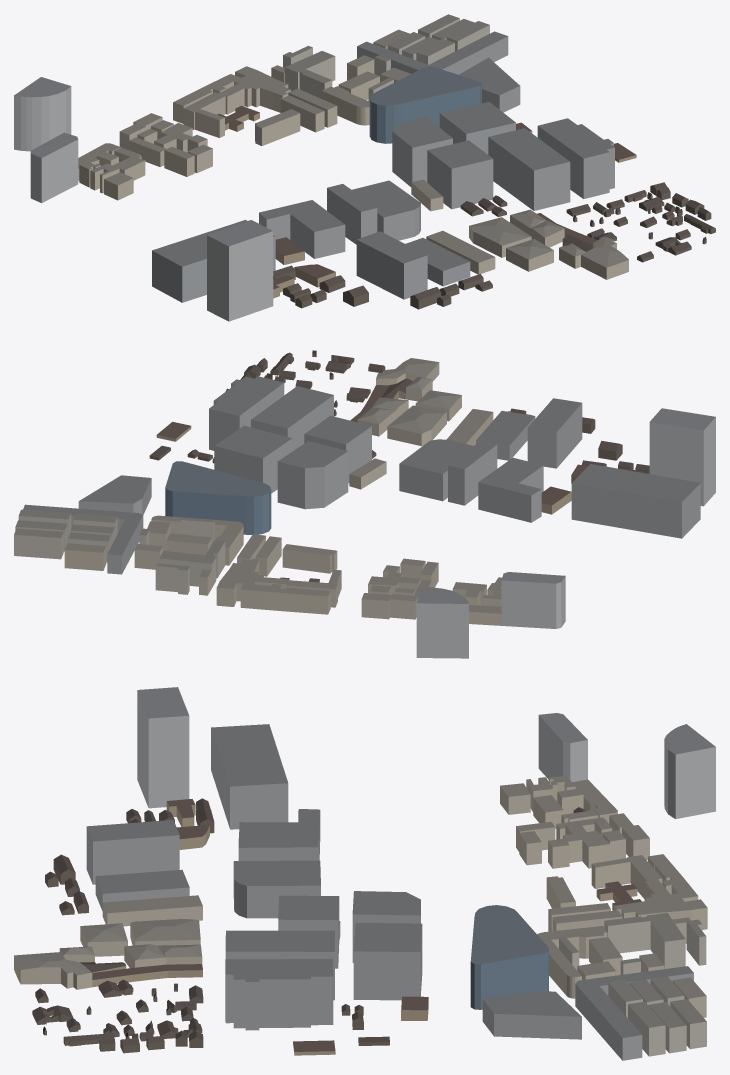
Rendered from tile_6_8.glb.
The picture shows the model from 3 angles, top to bottom: view 1: azimuth 30°, elevation 25°; view 2: azimuth 150°, elevation 25°; view 3: azimuth 270°, elevation 25°; orthographic projection. The views are drawn at different scales.
Visible parts, largest first — view 1: HP-w369237839, HP-w292818816, HP-w389702034, HP-w389701788, HP-w389701905, HP-w369237987, HP-w378107081, HP-w300480894, HP-w389702099, HP-w1198554860, HP-w83133885, HP-w447021392 (+32 smaller); view 2: HP-w300480894, HP-w292818816, HP-w369237839, HP-w83133885, HP-w378107081, HP-w1198554860, HP-w389702099, HP-w389701925, HP-w369237987, HP-w389701788, HP-w389702034, HP-w389702097 (+35 smaller); view 3: HP-w389701788, HP-w300480894, HP-w292818816, HP-w369237839, HP-w389701925, HP-w369237987, HP-w378107081, HP-w389702097, HP-w1287050301, HP-w447021392, HP-w389702034, HP-w1198554860 (+40 smaller).
Boxes of the visible parts, x1,y1,x2,y2 form: HP-w369237839: (207, 220, 273, 321); HP-w292818816: (369, 66, 481, 143); HP-w389702034: (488, 128, 570, 210); HP-w389701788: (537, 118, 614, 198); HP-w389701905: (427, 140, 493, 209); HP-w369237987: (356, 231, 427, 299); HP-w378107081: (14, 77, 71, 151); HP-w300480894: (152, 220, 275, 302); HP-w389702099: (259, 200, 345, 258); HP-w1198554860: (30, 132, 78, 203); HP-w83133885: (392, 117, 452, 186); HP-w447021392: (357, 31, 508, 74); HP-w300480894: (571, 464, 700, 538); HP-w292818816: (165, 461, 271, 534); HP-w369237839: (649, 408, 715, 506); HP-w83133885: (277, 441, 348, 509); HP-w378107081: (416, 587, 468, 658); HP-w1198554860: (501, 572, 565, 628); HP-w389702099: (478, 457, 543, 522); HP-w389701925: (214, 425, 292, 493); HP-w369237987: (527, 398, 582, 468); HP-w389701788: (209, 376, 284, 450); HP-w389702034: (251, 386, 333, 450); HP-w389702097: (399, 439, 473, 501); HP-w389701788: (225, 959, 333, 1030); HP-w300480894: (211, 724, 288, 829); HP-w292818816: (470, 905, 548, 1009); HP-w369237839: (137, 687, 189, 808); HP-w389701925: (353, 923, 422, 1000); HP-w369237987: (86, 820, 179, 884); HP-w378107081: (664, 724, 715, 819); HP-w389702097: (233, 860, 320, 918); HP-w1287050301: (482, 991, 581, 1039); HP-w447021392: (575, 966, 693, 1060); HP-w389702034: (225, 930, 334, 1000); HP-w1198554860: (538, 713, 587, 782).
Size of the model in its own units: 527 by 75 by 531.
